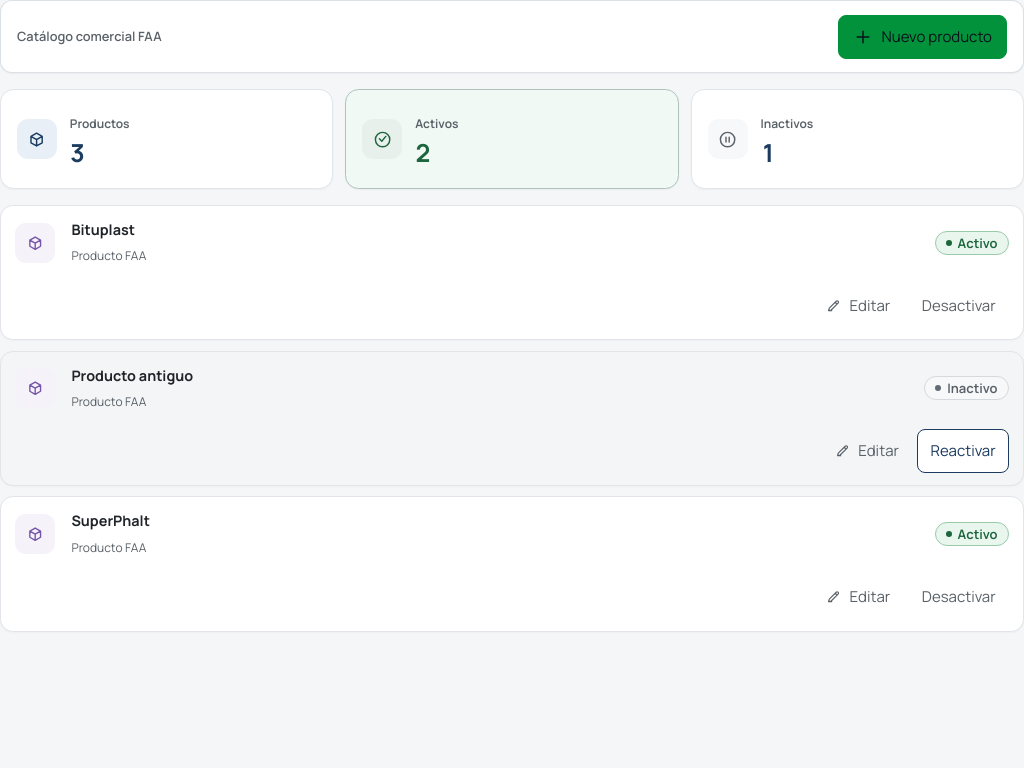
Test case: ProductsPage › reuses the product form for editing only the name
Expected: the text "SuperPhalt" is shown, left=71, top=511, right=150, bottom=530
Click the button with aria-label "Editar SuperPhalt" at point(858, 596), box left=813, top=574, right=903, bottom=618
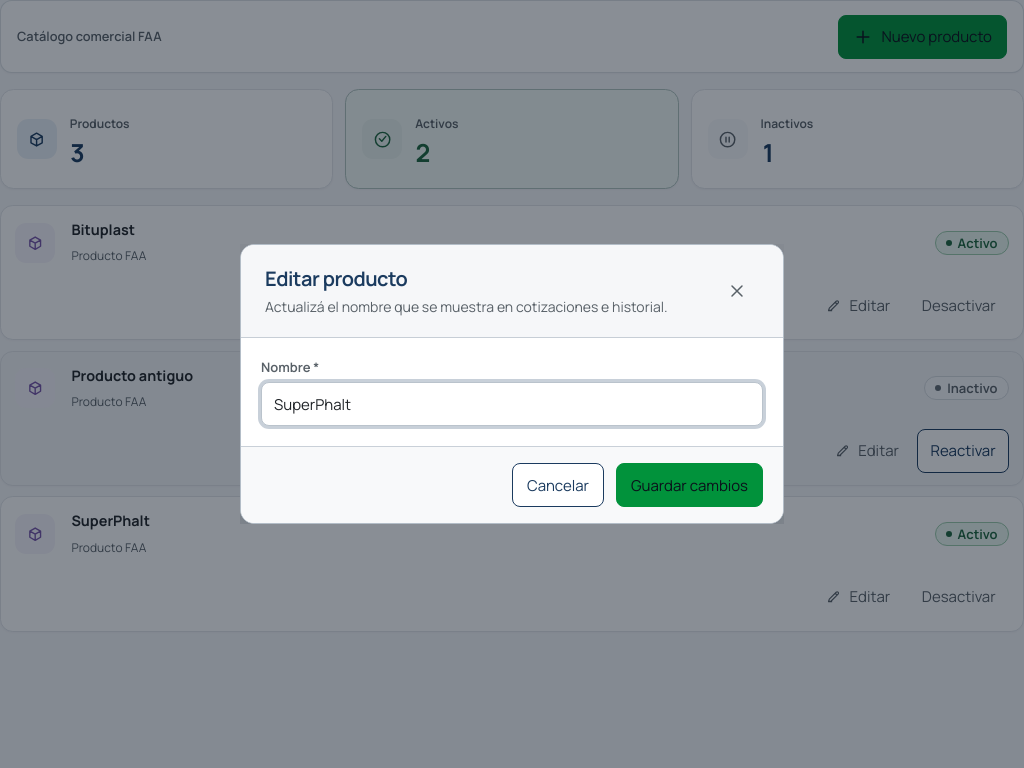
Result: the field labelled "Nombre *" holds "SuperPhalt"
Replace the text in the field labelled "Nombre *" with "SuperPhalt Plus" at point(512, 404), box left=261, top=382, right=763, bottom=426
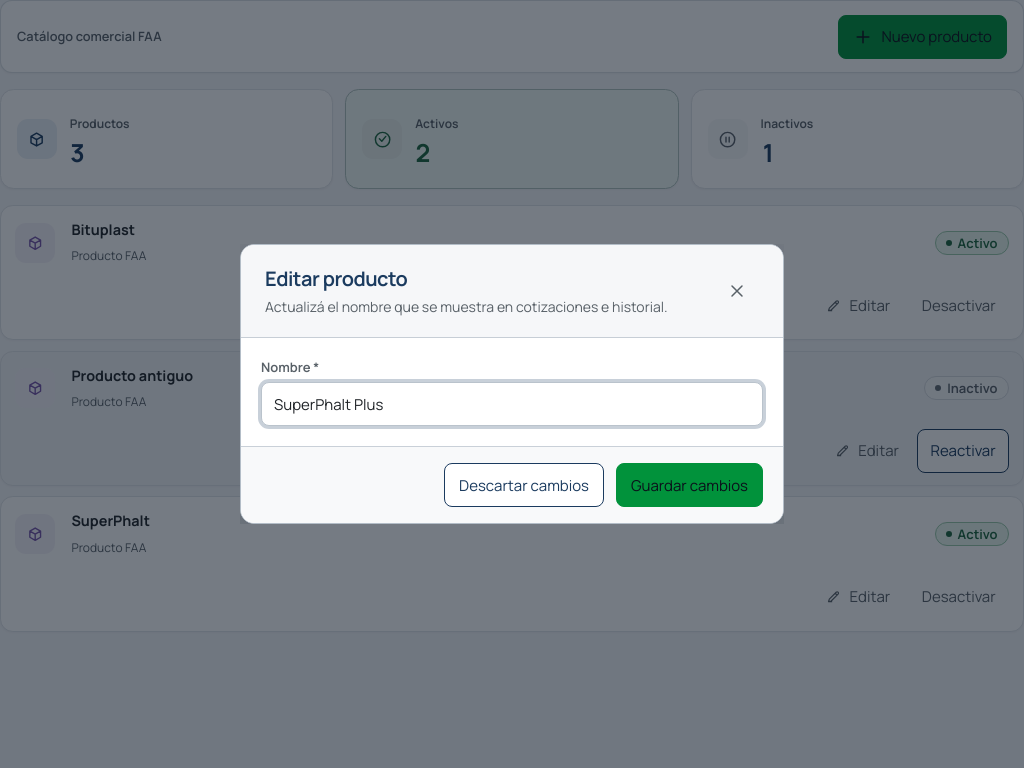
Click the button "Guardar cambios" at point(689, 485), box left=616, top=463, right=763, bottom=507
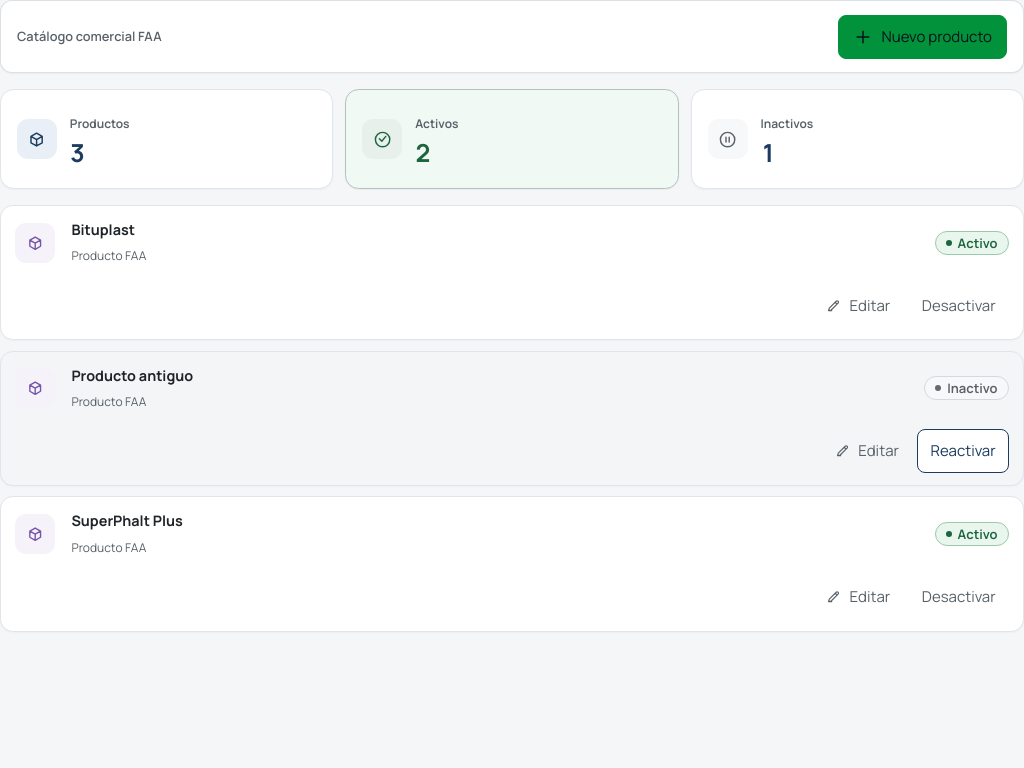
Result: the text "SuperPhalt Plus" is shown at left=71, top=511, right=183, bottom=530
